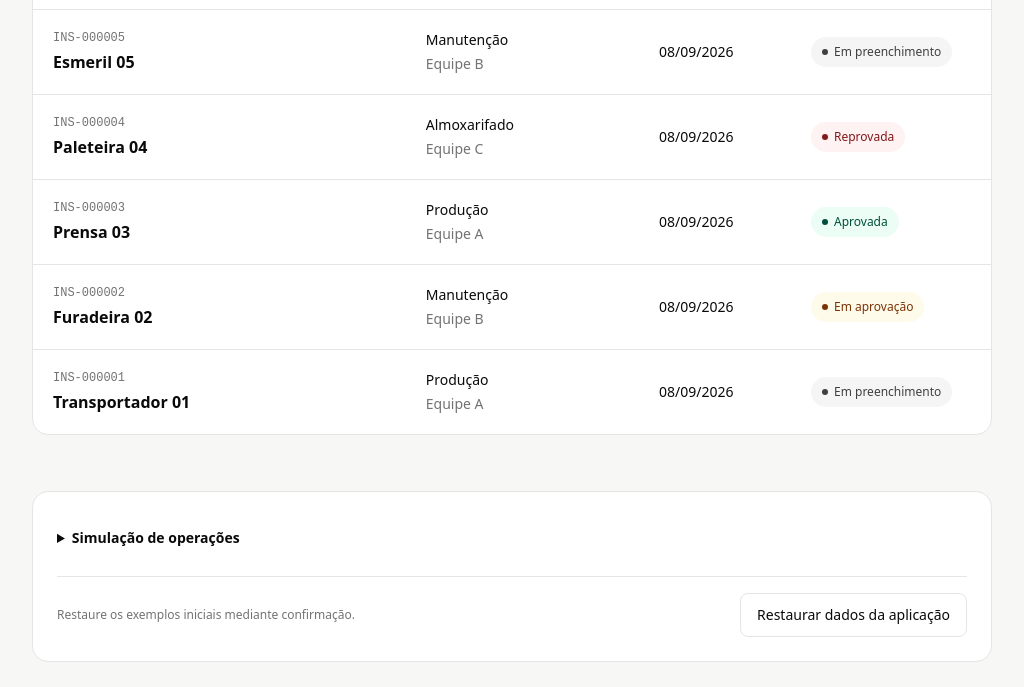
Test: controles de simulação e recuperação › falha simulada preserva motivo e estado confirmado da revisão
(page scrolled)
Click the link "Furadeira 02": (489,306) x1=53 y1=285 x2=924 y2=328
(page scrolled)
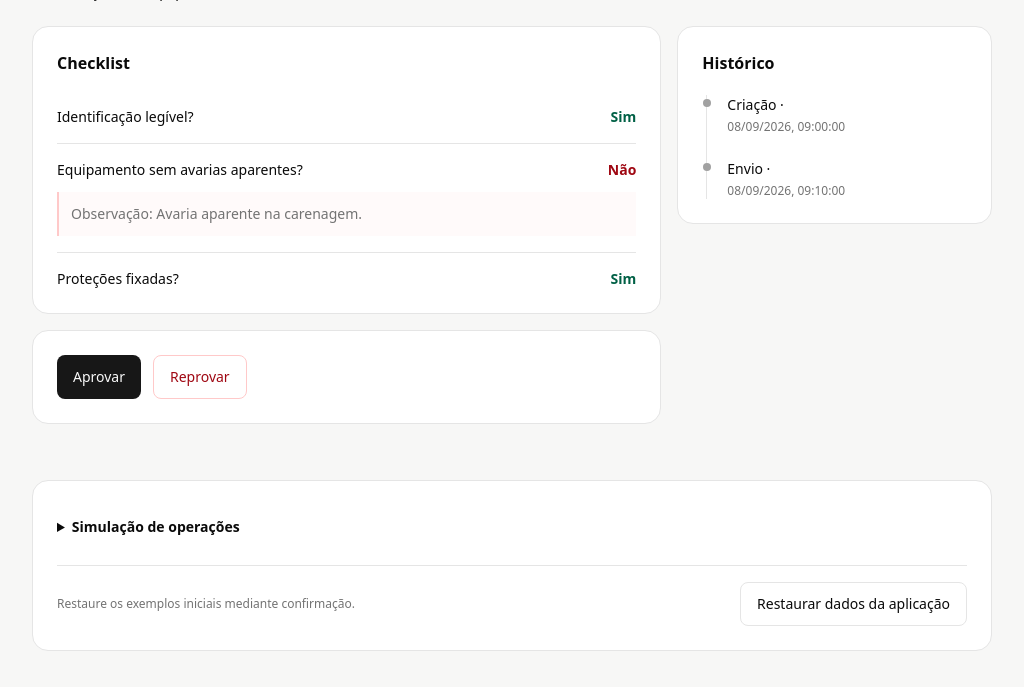
expect the button "Reprovar" is shown: met, box x1=153 y1=355 x2=247 y2=399
Click the heading "Simulação de operações": (156,526) x1=72 y1=517 x2=240 y2=536
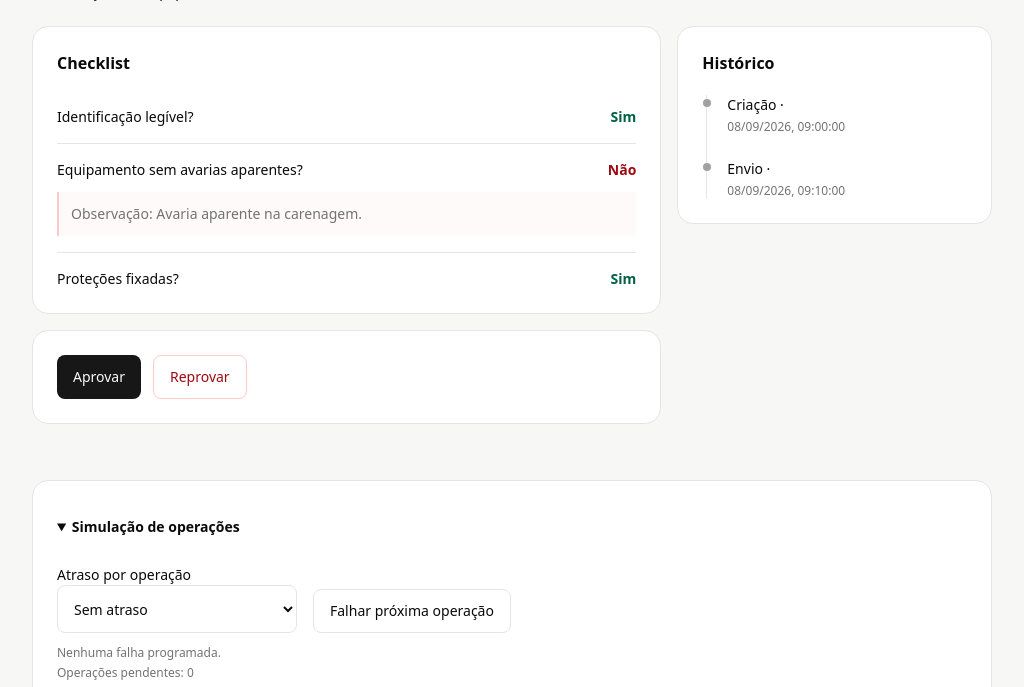
Click the button "Falhar próxima operação": (412,611) x1=313 y1=589 x2=511 y2=633
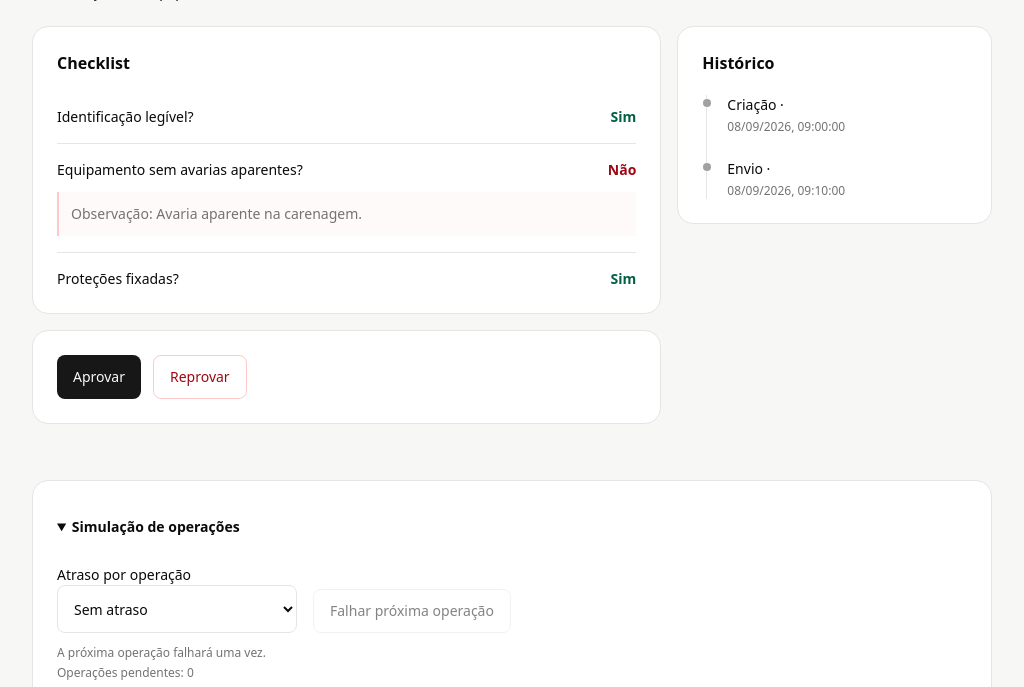
Click the button "Reprovar": (200,377) x1=153 y1=355 x2=247 y2=399
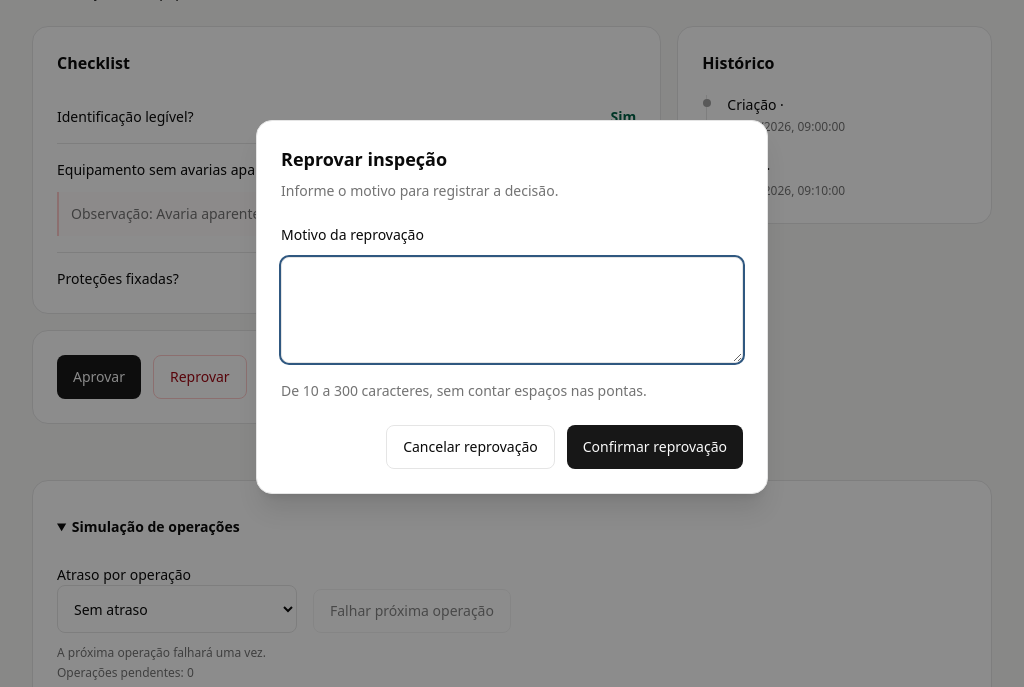
In the text box labelled "Motivo da reprovação": (512,310) x1=281 y1=257 x2=743 y2=363, type "  Pendência de integridade.  "
Click the button "Confirmar reprovação": (655,447) x1=567 y1=425 x2=743 y2=469
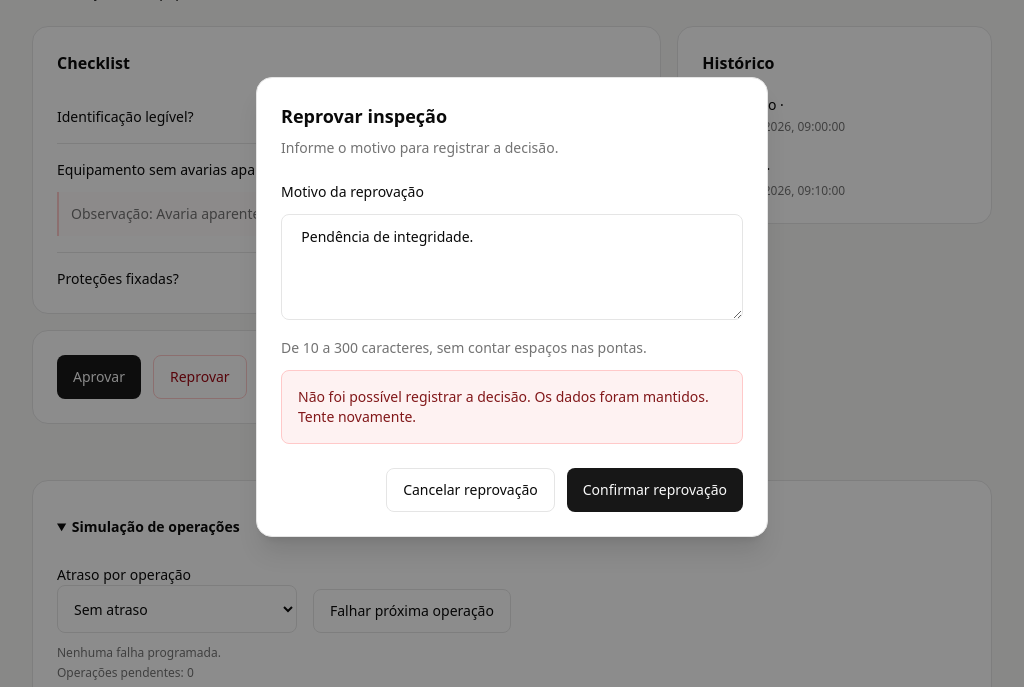
expect the message is shown: met, box x1=281 y1=370 x2=743 y2=444
Click the button "Confirmar reprovação": (655,490) x1=567 y1=468 x2=743 y2=512
(page scrolled)
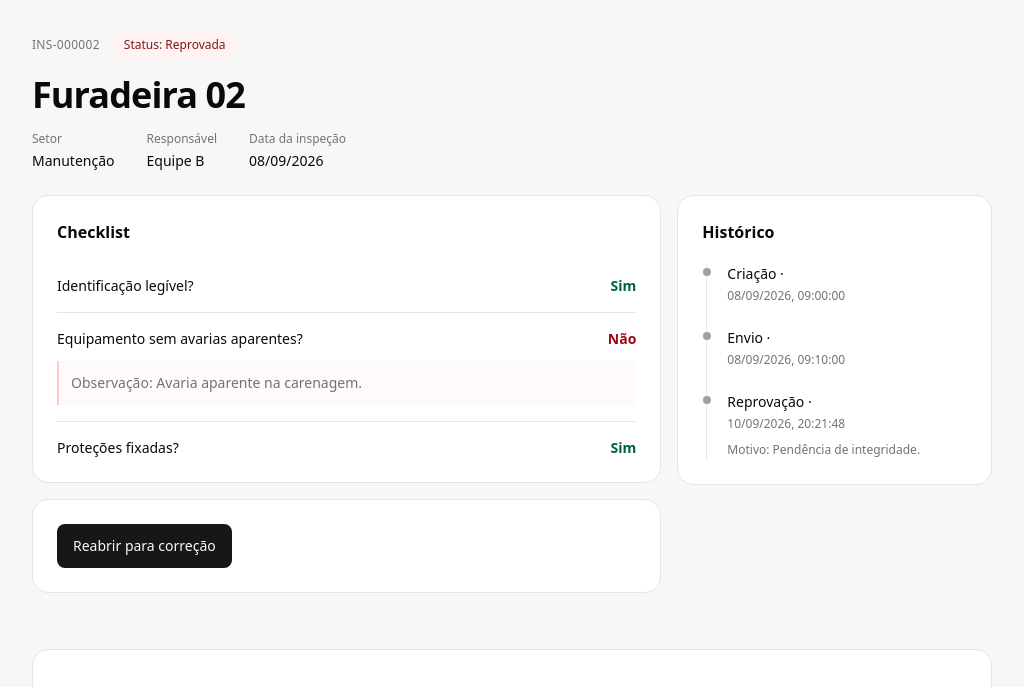
expect the text "Status: Reprovada" is shown: met, box x1=112 y1=31 x2=238 y2=59
